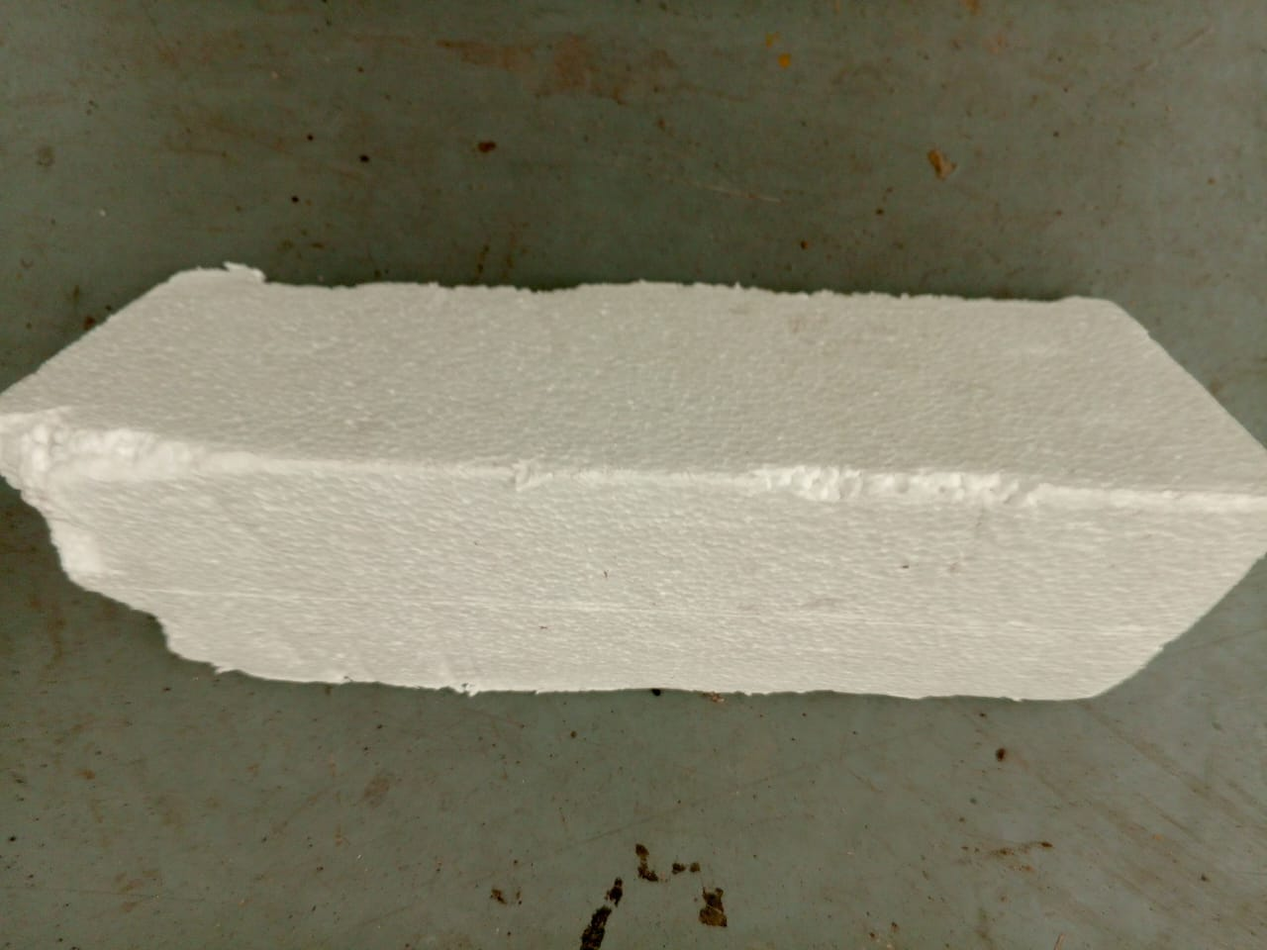Ordinario: (1, 262, 1267, 705)
